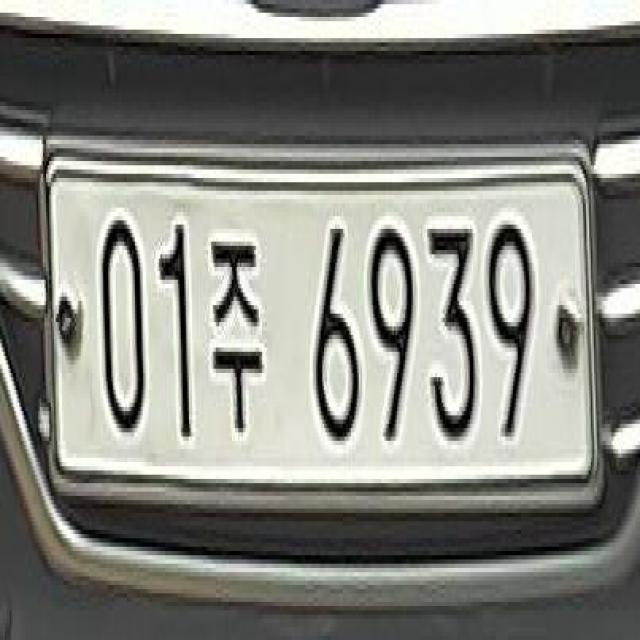illegal_plate: (47, 143, 603, 527)
